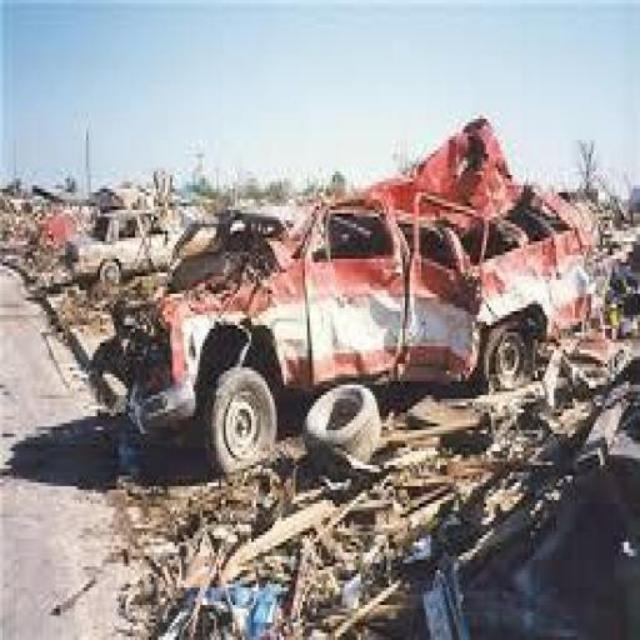crash: (127, 119, 593, 430)
